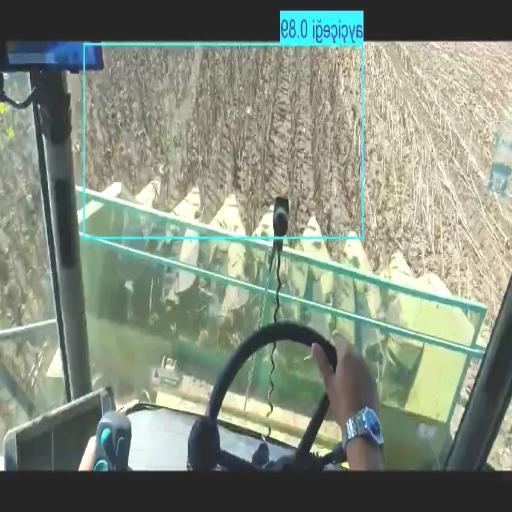ayc: (68, 48, 360, 234), (1, 105, 40, 225)
